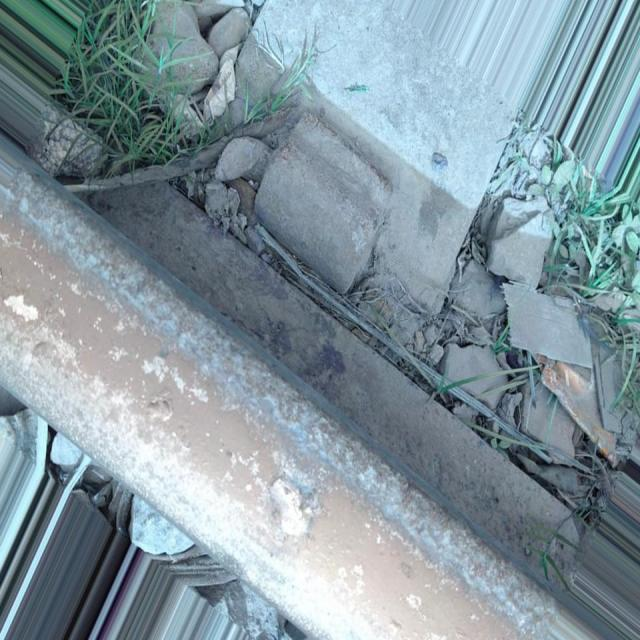Missing Fastener: (233, 83, 413, 328)
